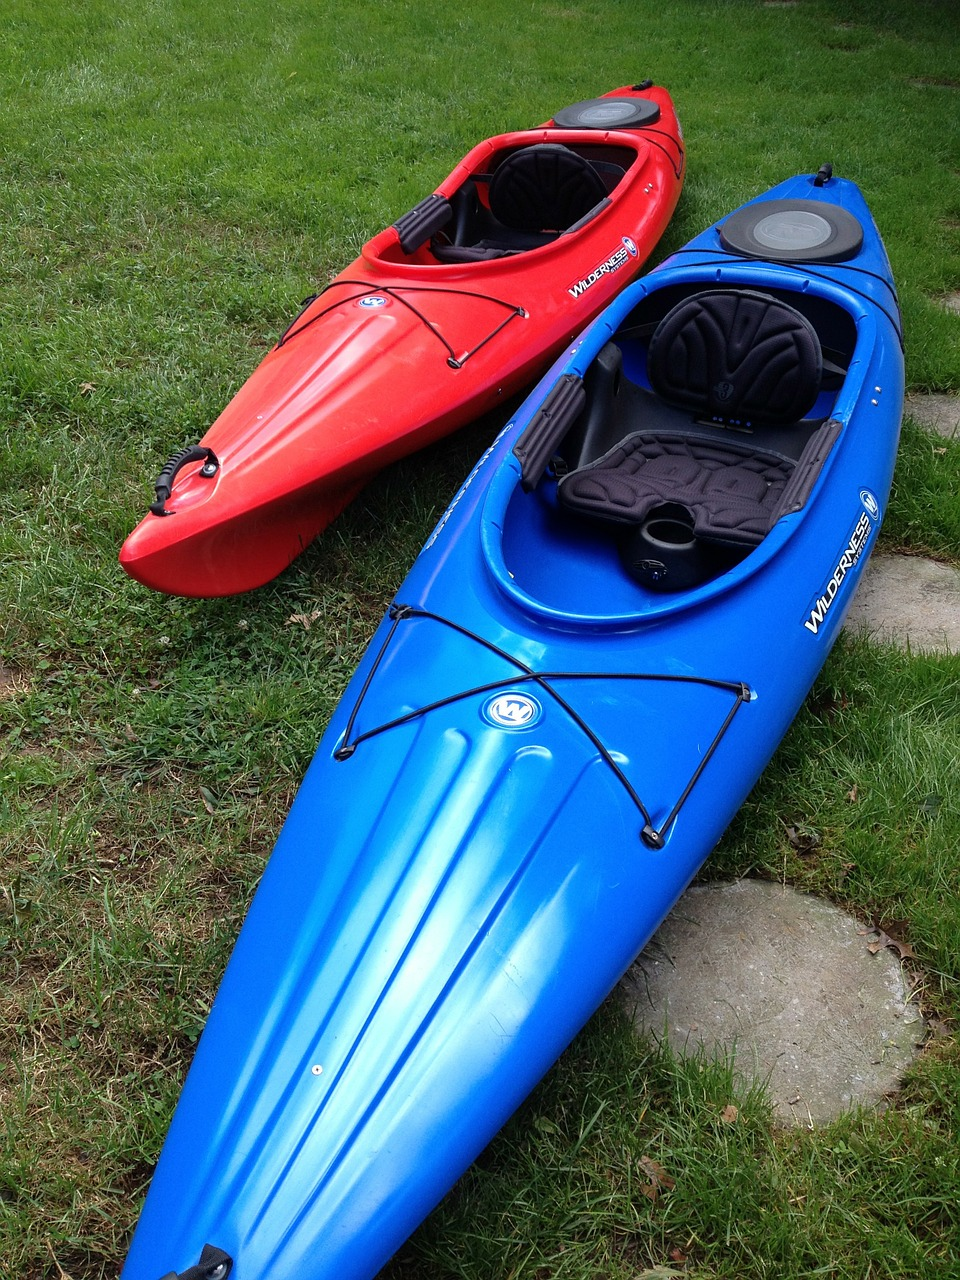kayak: (101, 156, 909, 1280), (121, 63, 695, 597)
